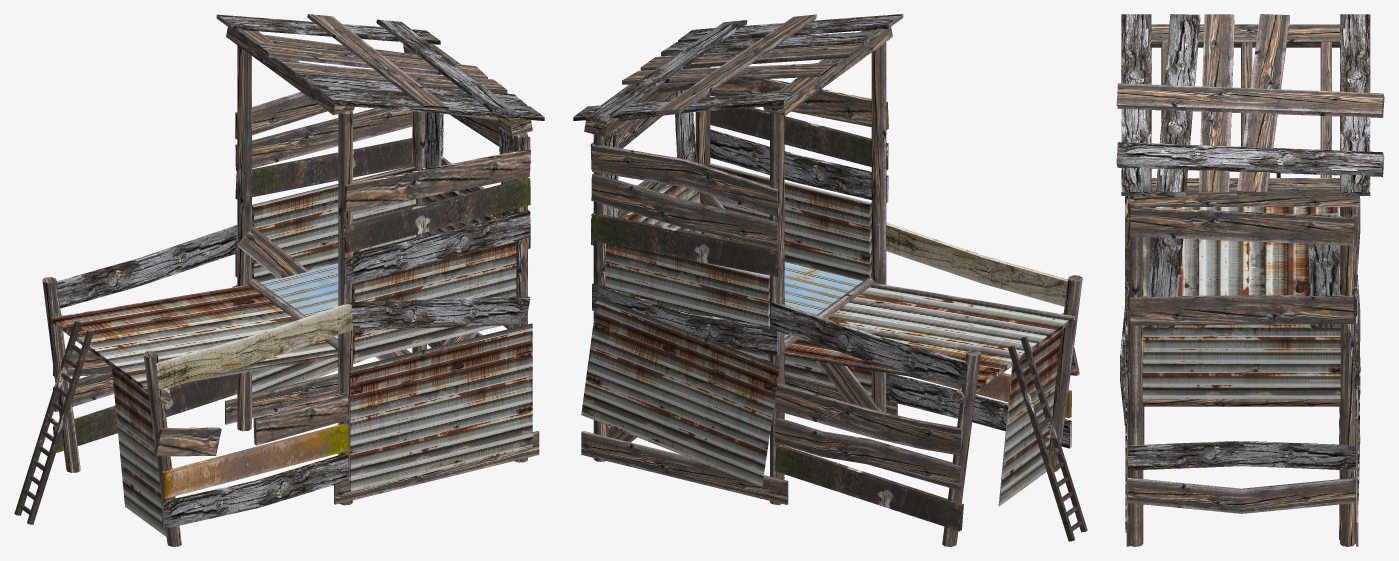
The model's file is shack_05.fbx.
3 renders of one model, left to right at view 1: azimuth 30°, elevation 25°; view 2: azimuth 150°, elevation 25°; view 3: azimuth 270°, elevation 25°, orthographic. The views are drawn at different scales.
Parts seen in each view (by area): view 1: shack_05; view 2: shack_05; view 3: shack_05.
Boxes of the visible parts, x1=… form: shack_05: x1=14, y1=14, x2=544, y2=546; shack_05: x1=573, y1=14, x2=1087, y2=546; shack_05: x1=1116, y1=14, x2=1384, y2=546.
Bounding box in the file's own units: 7.11 × 6.12 × 3.45.
